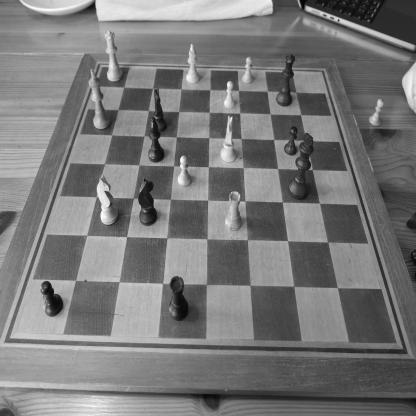black-bishop: (148, 117, 164, 163)
black-king: (287, 132, 314, 201)
black-knight: (137, 177, 158, 226), (153, 87, 167, 132)
black-pawn: (40, 280, 63, 317), (283, 126, 298, 156)
black-queen: (275, 53, 296, 107)
black-rook: (168, 275, 189, 322)
white-bishop: (185, 43, 201, 84)
white-knight: (88, 67, 112, 130), (96, 174, 119, 226), (220, 115, 237, 163)
white-pawn: (177, 154, 192, 188), (368, 98, 385, 127), (223, 80, 236, 109), (242, 57, 254, 84)
white-queen: (104, 30, 123, 82)
white-rook: (224, 191, 242, 232)
